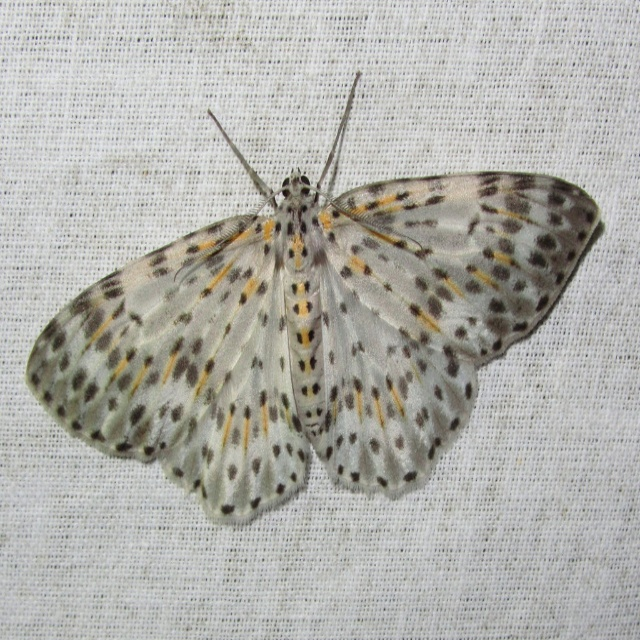Butterfly: (22, 86, 592, 511)
